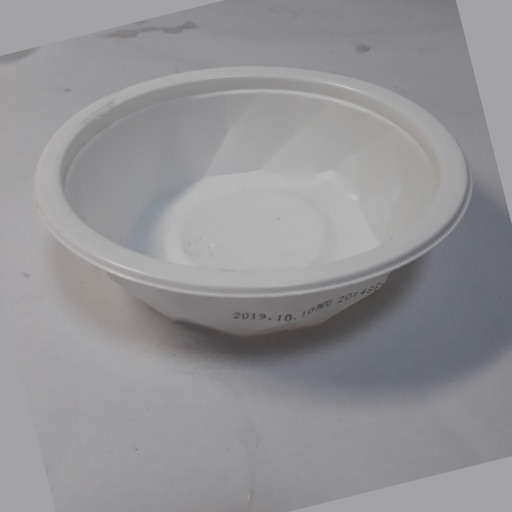Plastic_5: (32, 64, 472, 336)
